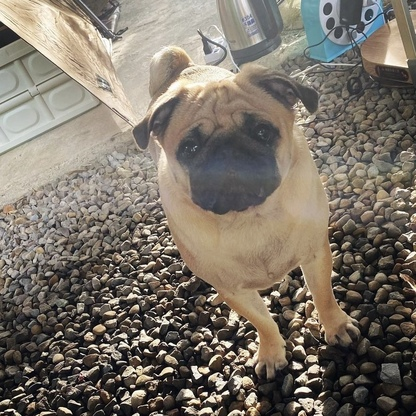Pug: (129, 40, 370, 384)
